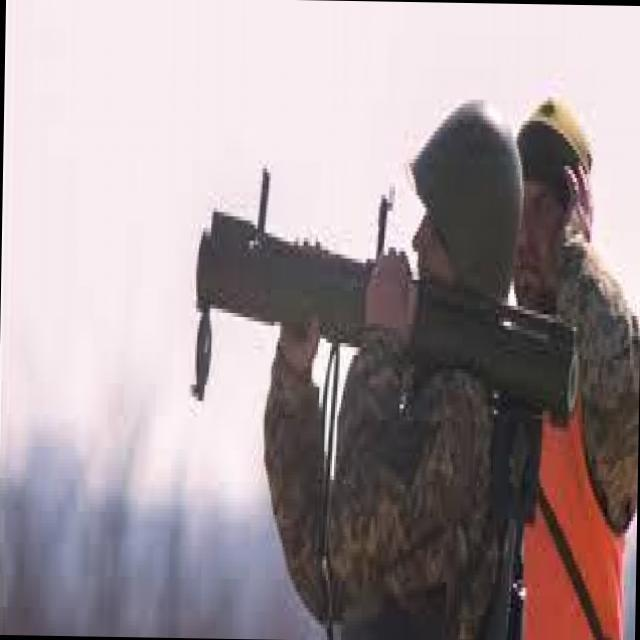rocket: (196, 205, 584, 425)
